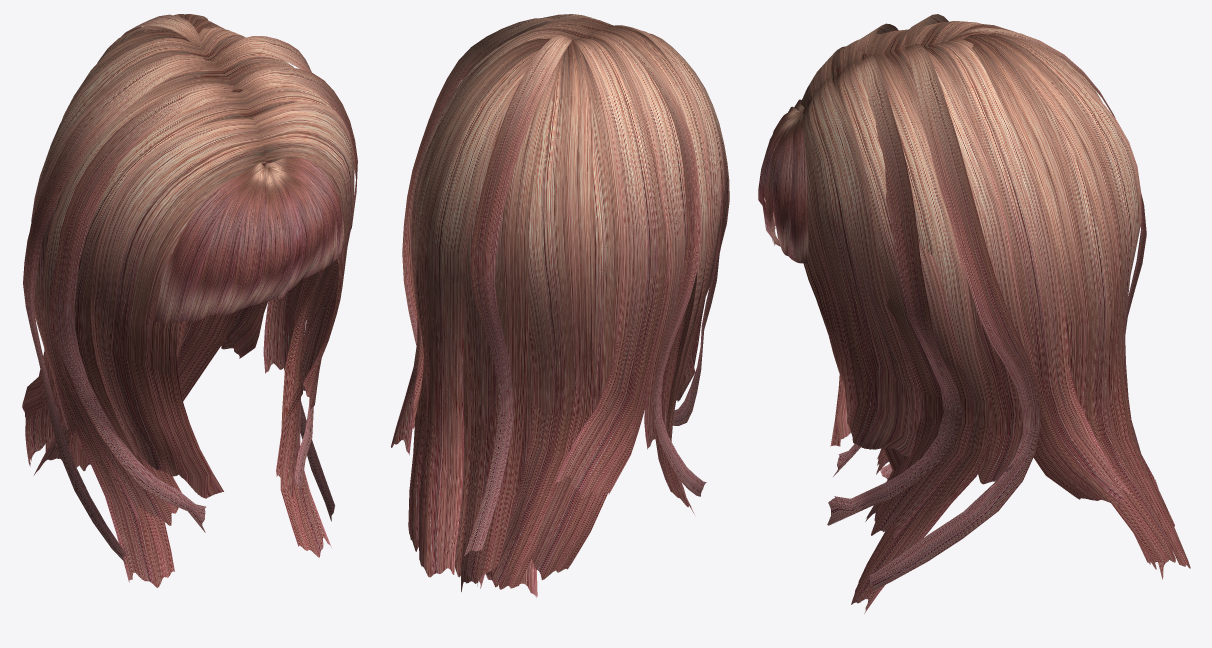
File: mh_elvs_katherine_hair.glb
3 views of the same model, side by side, from view 1: azimuth 30°, elevation 25°; view 2: azimuth 150°, elevation 25°; view 3: azimuth 270°, elevation 25° (orthographic). The views are drawn at different scales.
Visible parts, largest first — view 1: mh_elvs_katherine_hair; view 2: mh_elvs_katherine_hair; view 3: mh_elvs_katherine_hair.
Part boxes in pixels (bbox=[...]): mh_elvs_katherine_hair: bbox=[22, 14, 357, 587]; mh_elvs_katherine_hair: bbox=[391, 14, 729, 597]; mh_elvs_katherine_hair: bbox=[758, 14, 1190, 613].
Size of the model in its own units: 0.2319 by 0.4073 by 0.2822.
1 material, 1 textured.
